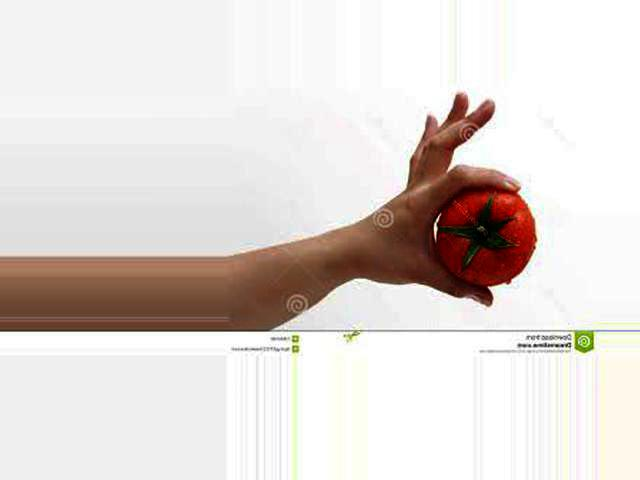tomato: (436, 186, 536, 286)
